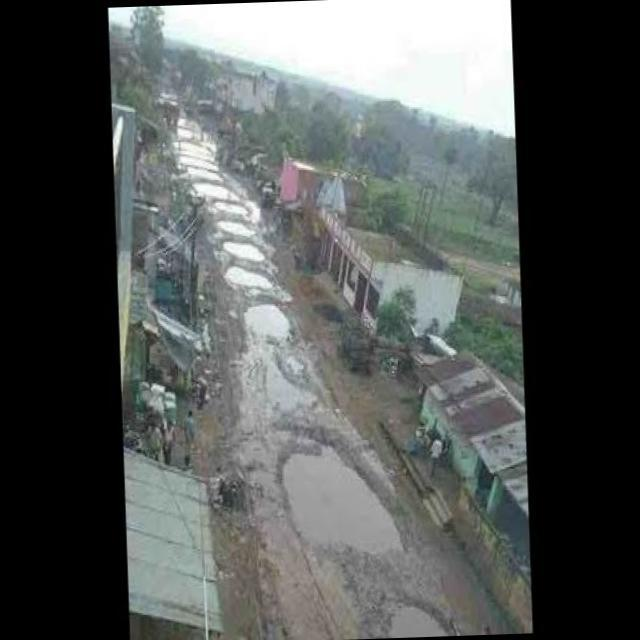Pothole: (268, 425, 417, 565), (251, 350, 319, 416), (379, 594, 455, 638), (242, 298, 294, 340), (225, 259, 278, 294), (223, 234, 266, 265), (195, 177, 240, 201), (217, 214, 254, 237), (214, 197, 249, 217)
